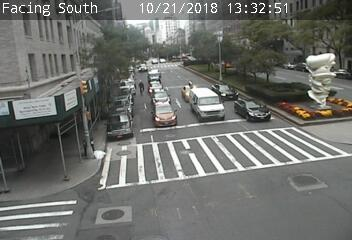car: (190, 88, 223, 121), (234, 99, 270, 121), (154, 102, 176, 126), (211, 83, 237, 100), (181, 85, 201, 103), (152, 88, 170, 107), (148, 80, 163, 96), (148, 69, 161, 85)
